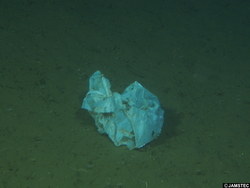plastic bag: (78, 65, 170, 151)
